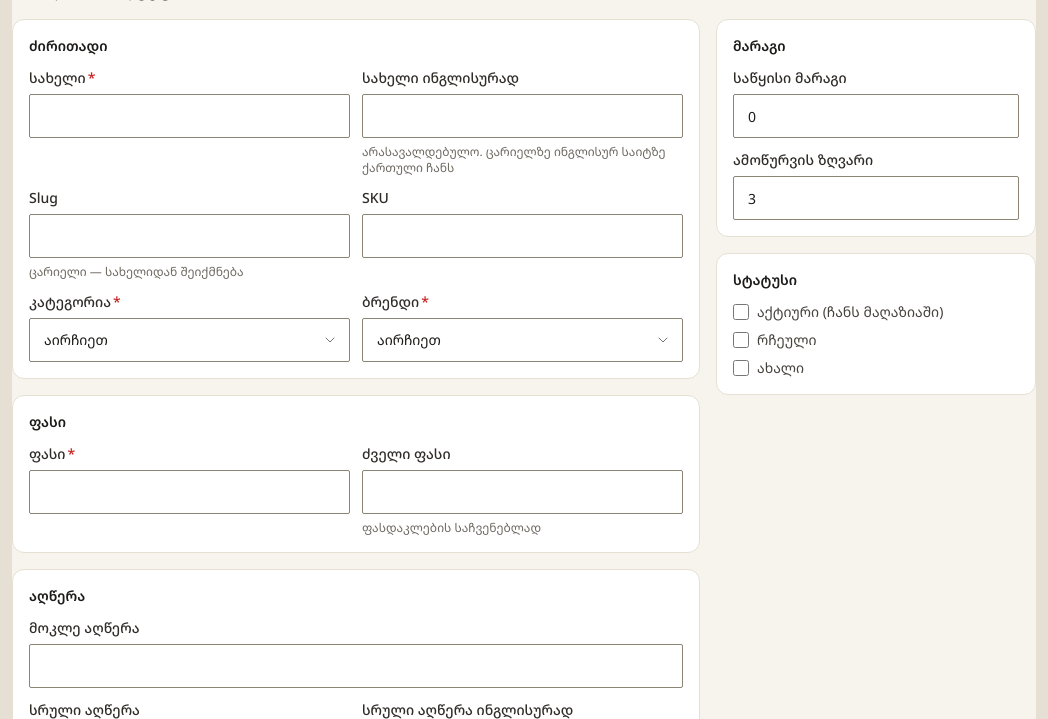
Test case: ProductForm validation › shows the category filter spec keys once a category is chosen
The width and height of the screenshot is (1048, 719).
Select "ტელეფონები" in the dropdown labelled "კატეგორია*" at (190, 340), box [29, 318, 350, 362]
(page scrolled)
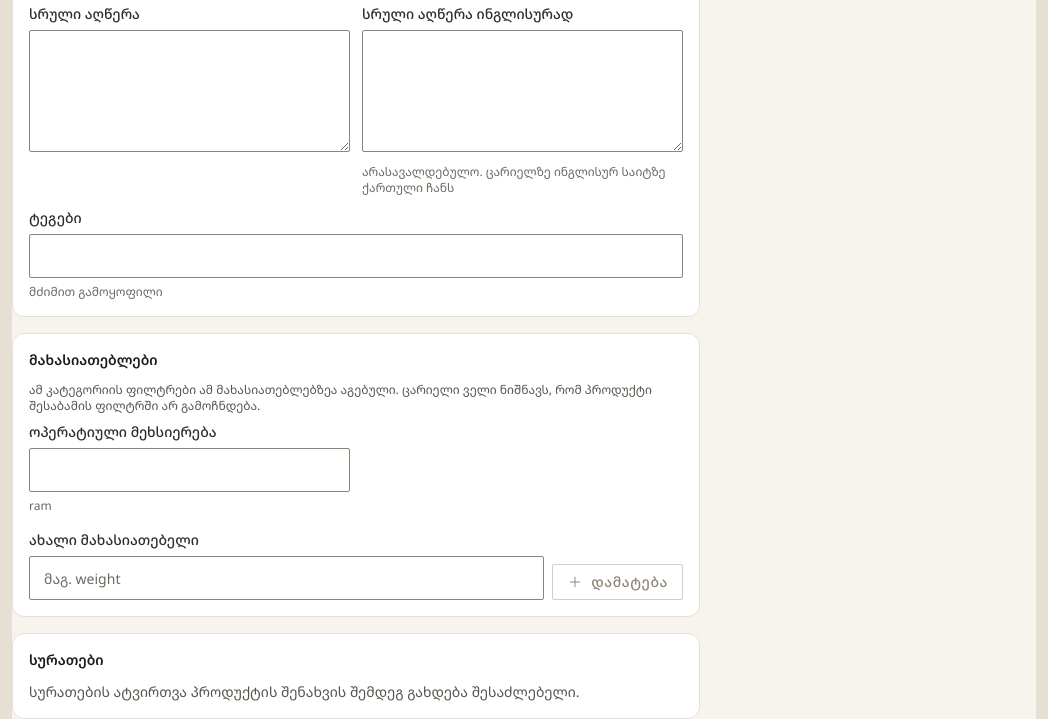
Now the field labelled "ოპერატიული მეხსიერება" is shown, box [29, 448, 350, 492]
